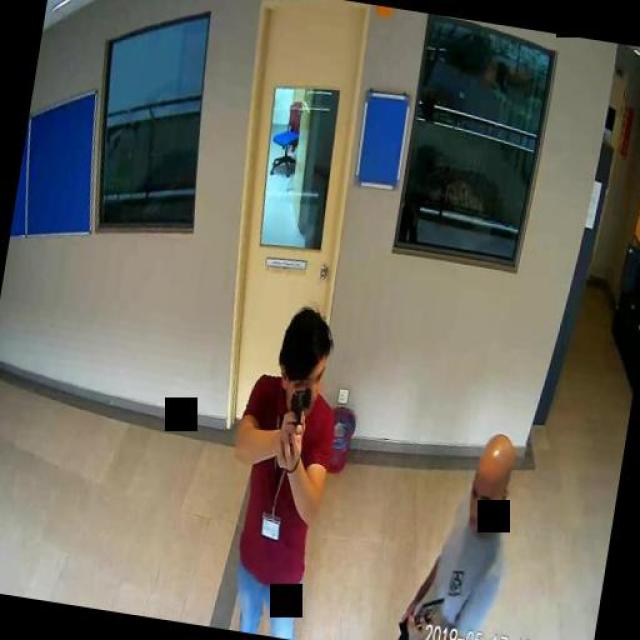gun: (280, 382, 311, 450)
